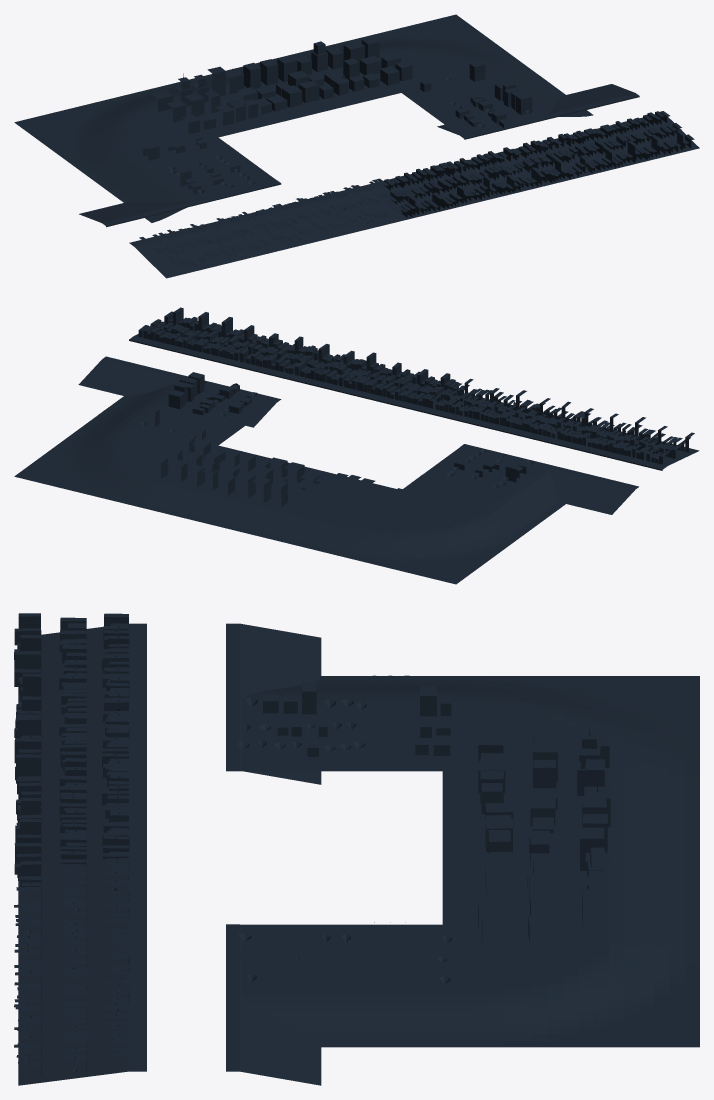
The model's file is outskirts_band.glb.
The picture shows the model from 3 angles, top to bottom: view 1: azimuth 30°, elevation 25°; view 2: azimuth 150°, elevation 25°; view 3: azimuth 270°, elevation 25°; orthographic projection. The views are drawn at different scales.
Parts seen in each view (by area): view 1: OutskirtsBand; view 2: OutskirtsBand; view 3: OutskirtsBand.
Part boxes in pixels (left/top/right/bottom): OutskirtsBand: left=14, top=14, right=699, bottom=278; OutskirtsBand: left=14, top=307, right=699, bottom=584; OutskirtsBand: left=14, top=613, right=699, bottom=1085.
Bounding box in the file's own units: 700 × 48.67 × 453.
